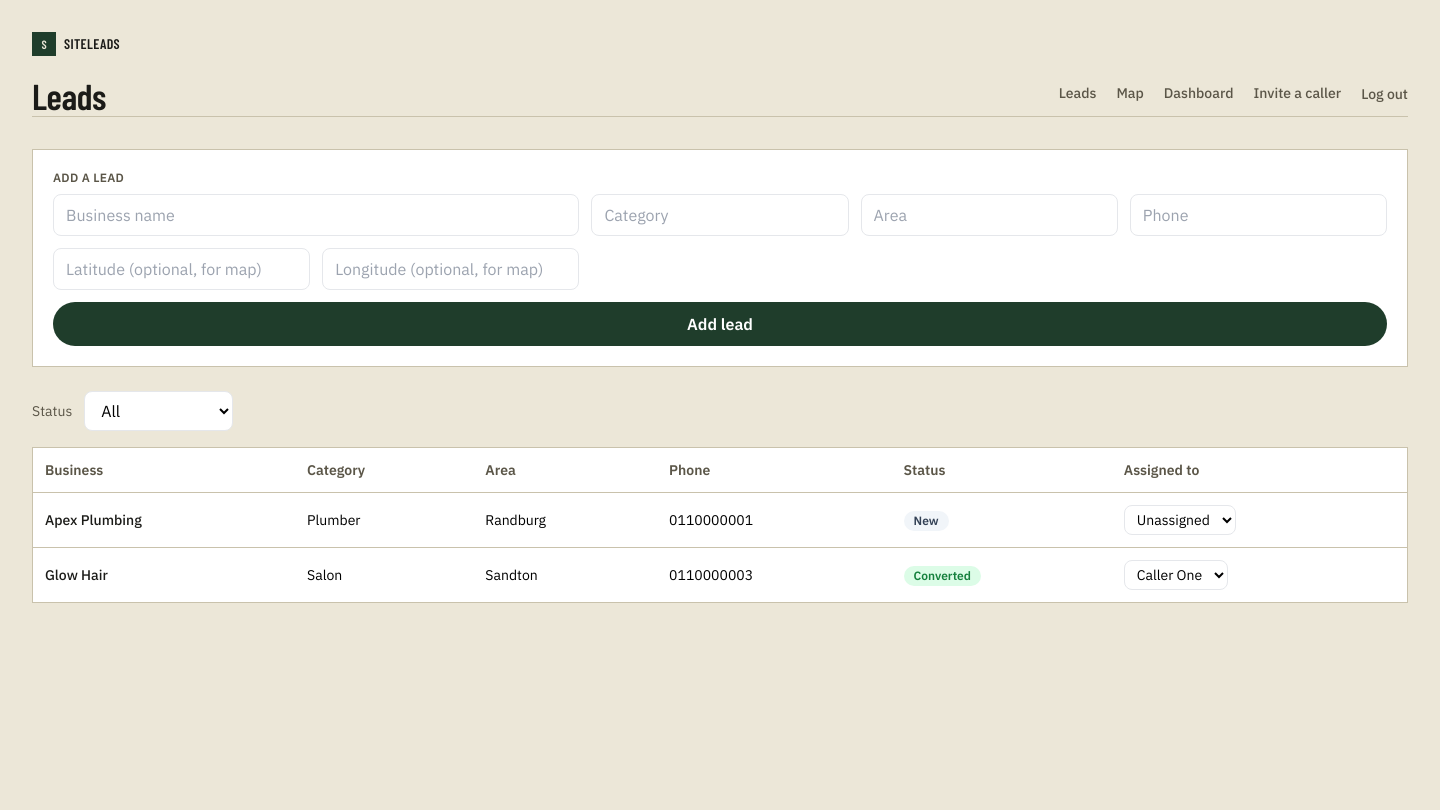
Scenario: LeadListScreen › filters the list by status
Expected: the text "Apex Plumbing" is shown, x1=33 y1=492 x2=295 y2=548
Select "Converted" in the dropdown labelled "Status": (159, 411) x1=84 y1=391 x2=233 y2=431
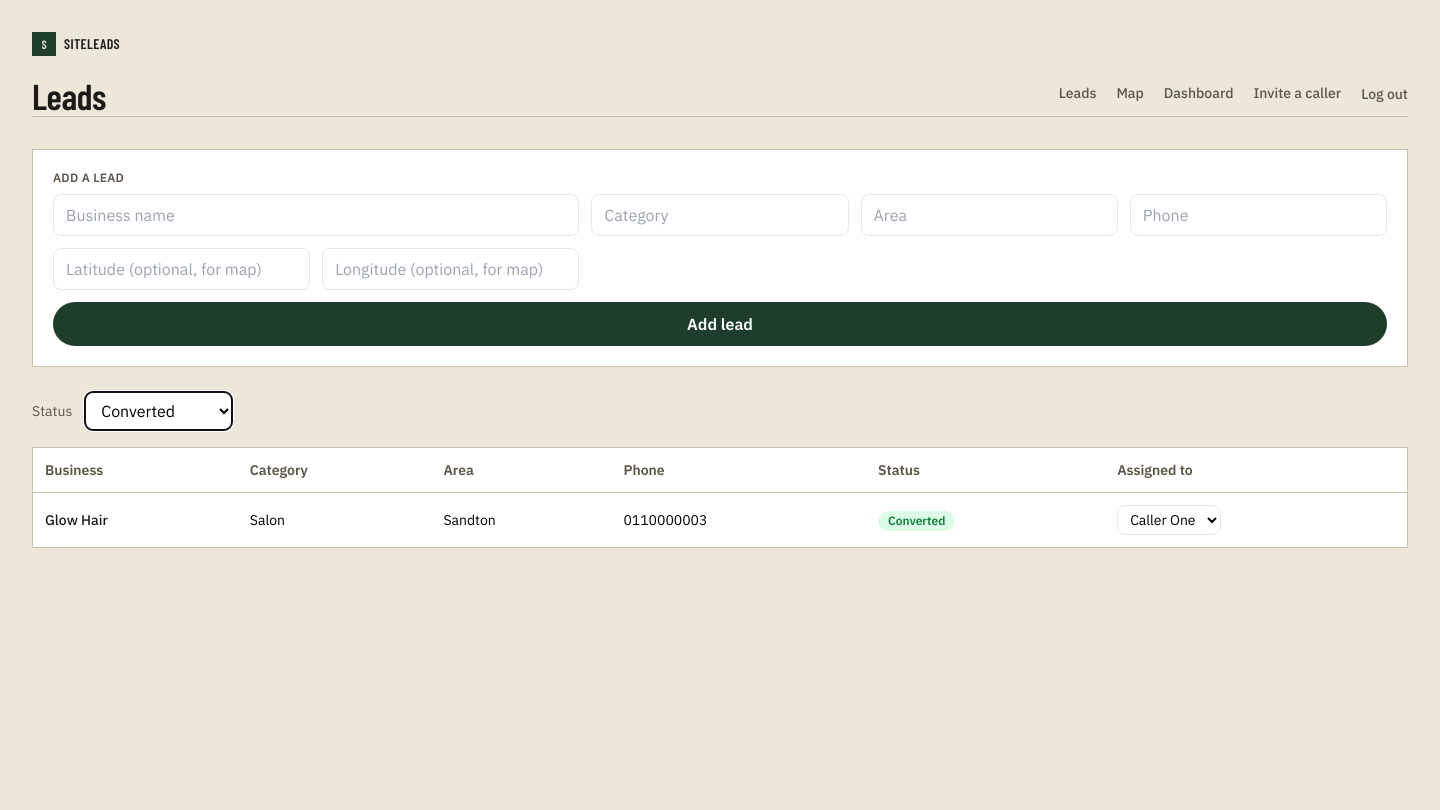
Expected: the text "Glow Hair" is shown, x1=33 y1=492 x2=238 y2=547
Now the text "Apex Plumbing" is gone
